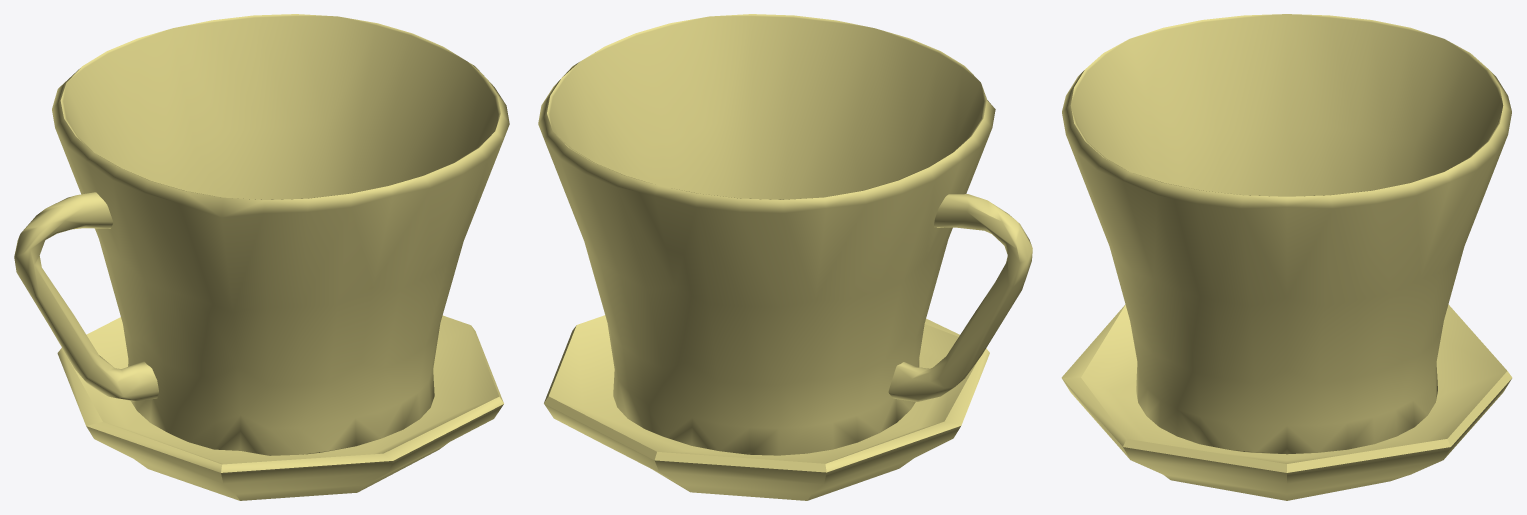
File: tazzina_verde_LOD2.fbx
The picture shows the model from 3 angles, left to right: view 1: azimuth 30°, elevation 25°; view 2: azimuth 150°, elevation 25°; view 3: azimuth 270°, elevation 25°; orthographic projection.
Visible parts, largest first — view 1: Cube_002; view 2: Cube_002; view 3: Cube_002.
Boxes of the visible parts, <box> form: Cube_002: <box>14,14,509,500</box>; Cube_002: <box>538,14,1032,500</box>; Cube_002: <box>1061,14,1512,500</box>.
Size of the model in its own units: 30.02 by 20.71 by 25.48.
